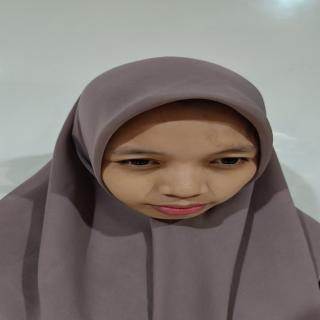Marah: (98, 100, 275, 227)
